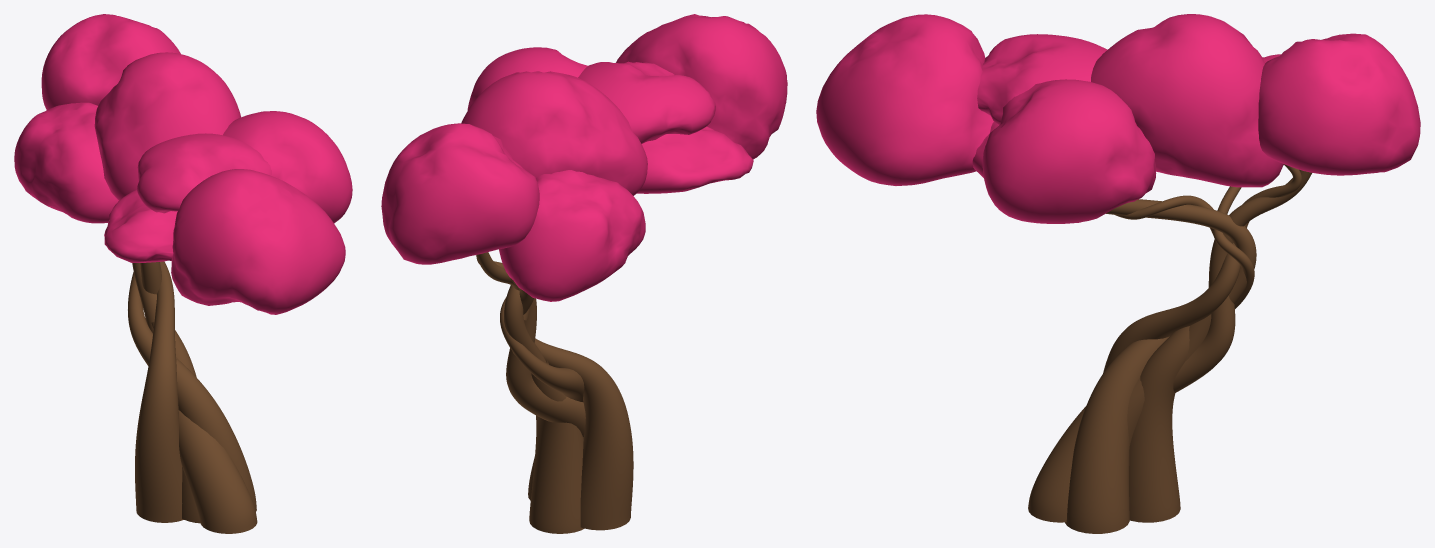
File: tree asset.fbx
The picture shows the model from 3 angles, left to right: view 1: azimuth 30°, elevation 25°; view 2: azimuth 150°, elevation 25°; view 3: azimuth 270°, elevation 25°; orthographic projection. The views are drawn at different scales.
Parts seen in each view (by area): view 1: NurbsPath; view 2: NurbsPath; view 3: NurbsPath.
Boxes of the visible parts, x1,y1,x2,y2 form: NurbsPath: (14,14,352,533); NurbsPath: (381,14,787,533); NurbsPath: (816,14,1420,533).
Size of the model in its own units: 442 by 759 by 849.
